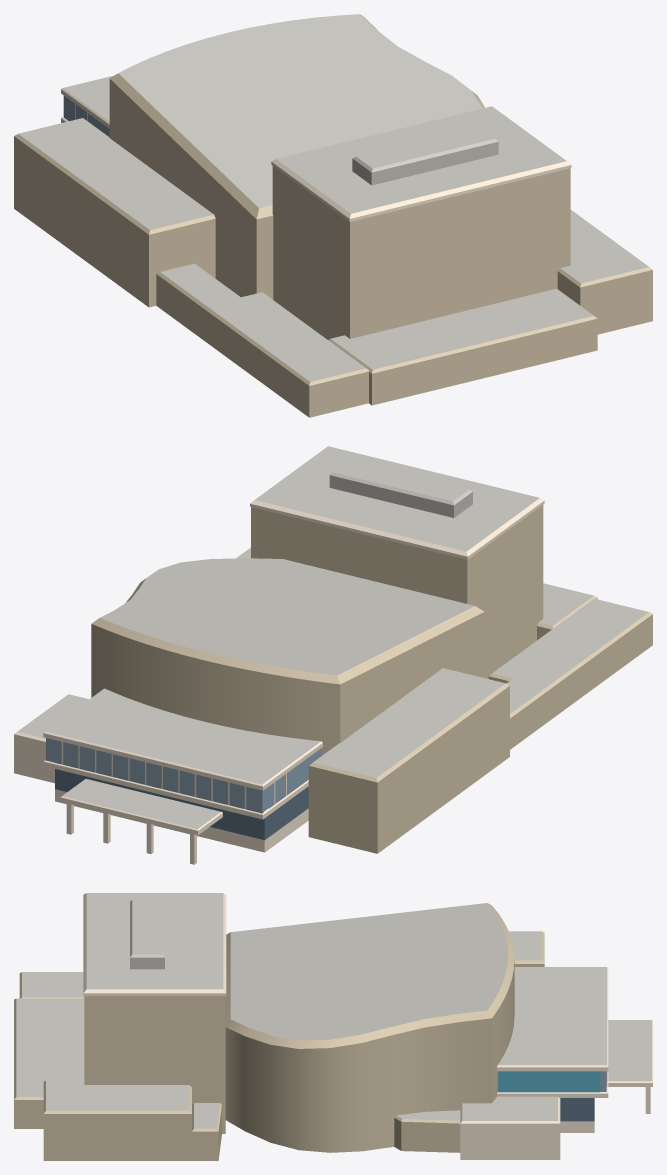
File: ovens-auditorium.glb
3 renders of one model, top to bottom at view 1: azimuth 30°, elevation 25°; view 2: azimuth 150°, elevation 25°; view 3: azimuth 270°, elevation 25°, orthographic. The views are drawn at different scales.
Visible parts, largest first — view 1: Ovens Auditorium; view 2: Ovens Auditorium; view 3: Ovens Auditorium.
Boxes of the visible parts, x1,y1,x2,y2 form: Ovens Auditorium: (14,14,652,417); Ovens Auditorium: (14,446,652,864); Ovens Auditorium: (14,893,652,1160).
Bounding box in the file's own units: 54.5 × 24.8 × 90.9.
